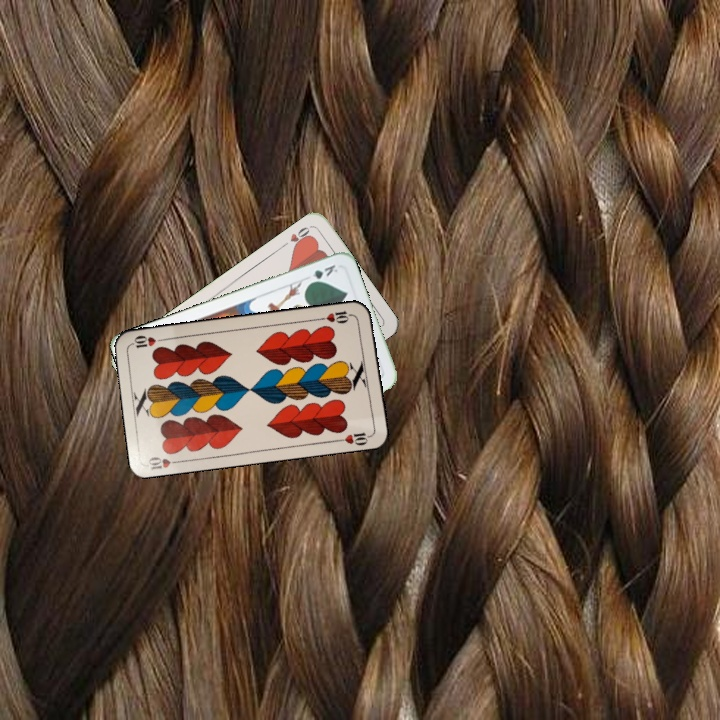GK: (304, 261, 340, 287)
H10: (144, 452, 185, 472), (316, 307, 356, 326)
HO: (278, 222, 314, 251)
